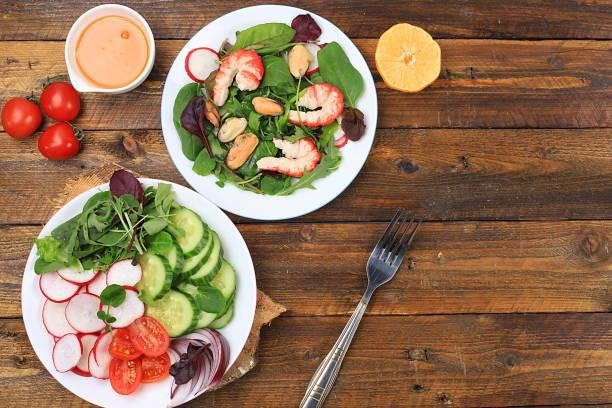Braised Crucian Carp: (21, 178, 256, 408), (160, 3, 376, 224)
